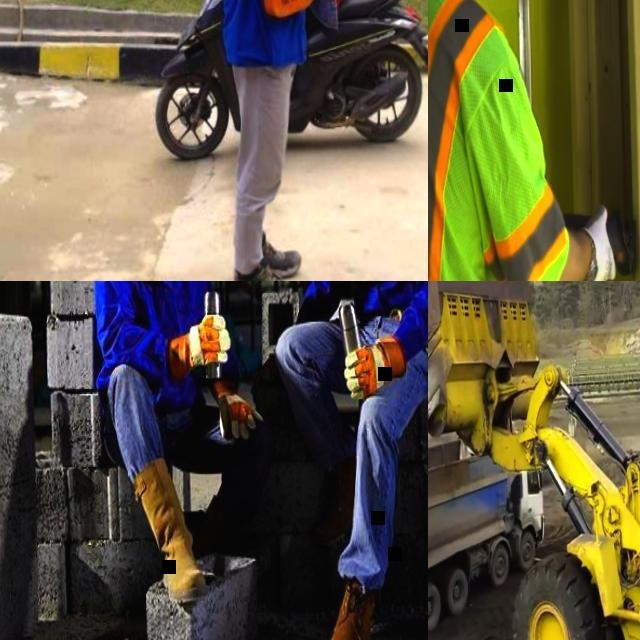NO-Safety Vest: (113, 281, 201, 394), (330, 281, 427, 317)
Person: (266, 281, 428, 640), (91, 281, 267, 607), (428, 0, 618, 281), (210, 0, 325, 281)
Safety Vest: (428, 0, 568, 281)
machinery: (428, 281, 640, 640), (428, 422, 546, 637)
